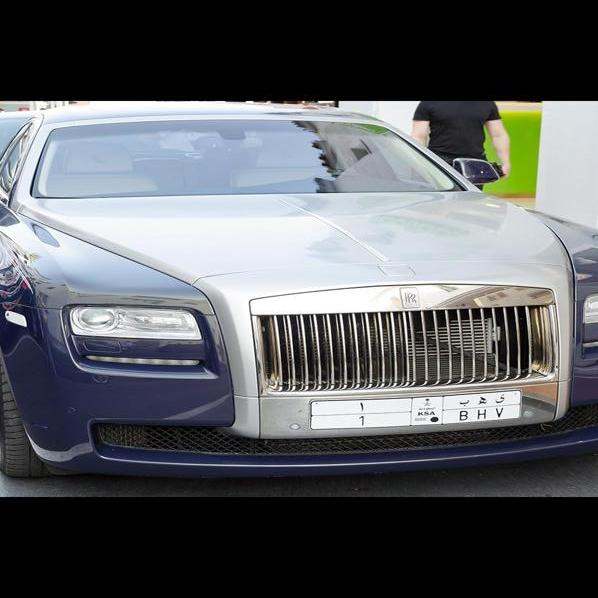numberplate: (309, 390, 524, 428)
